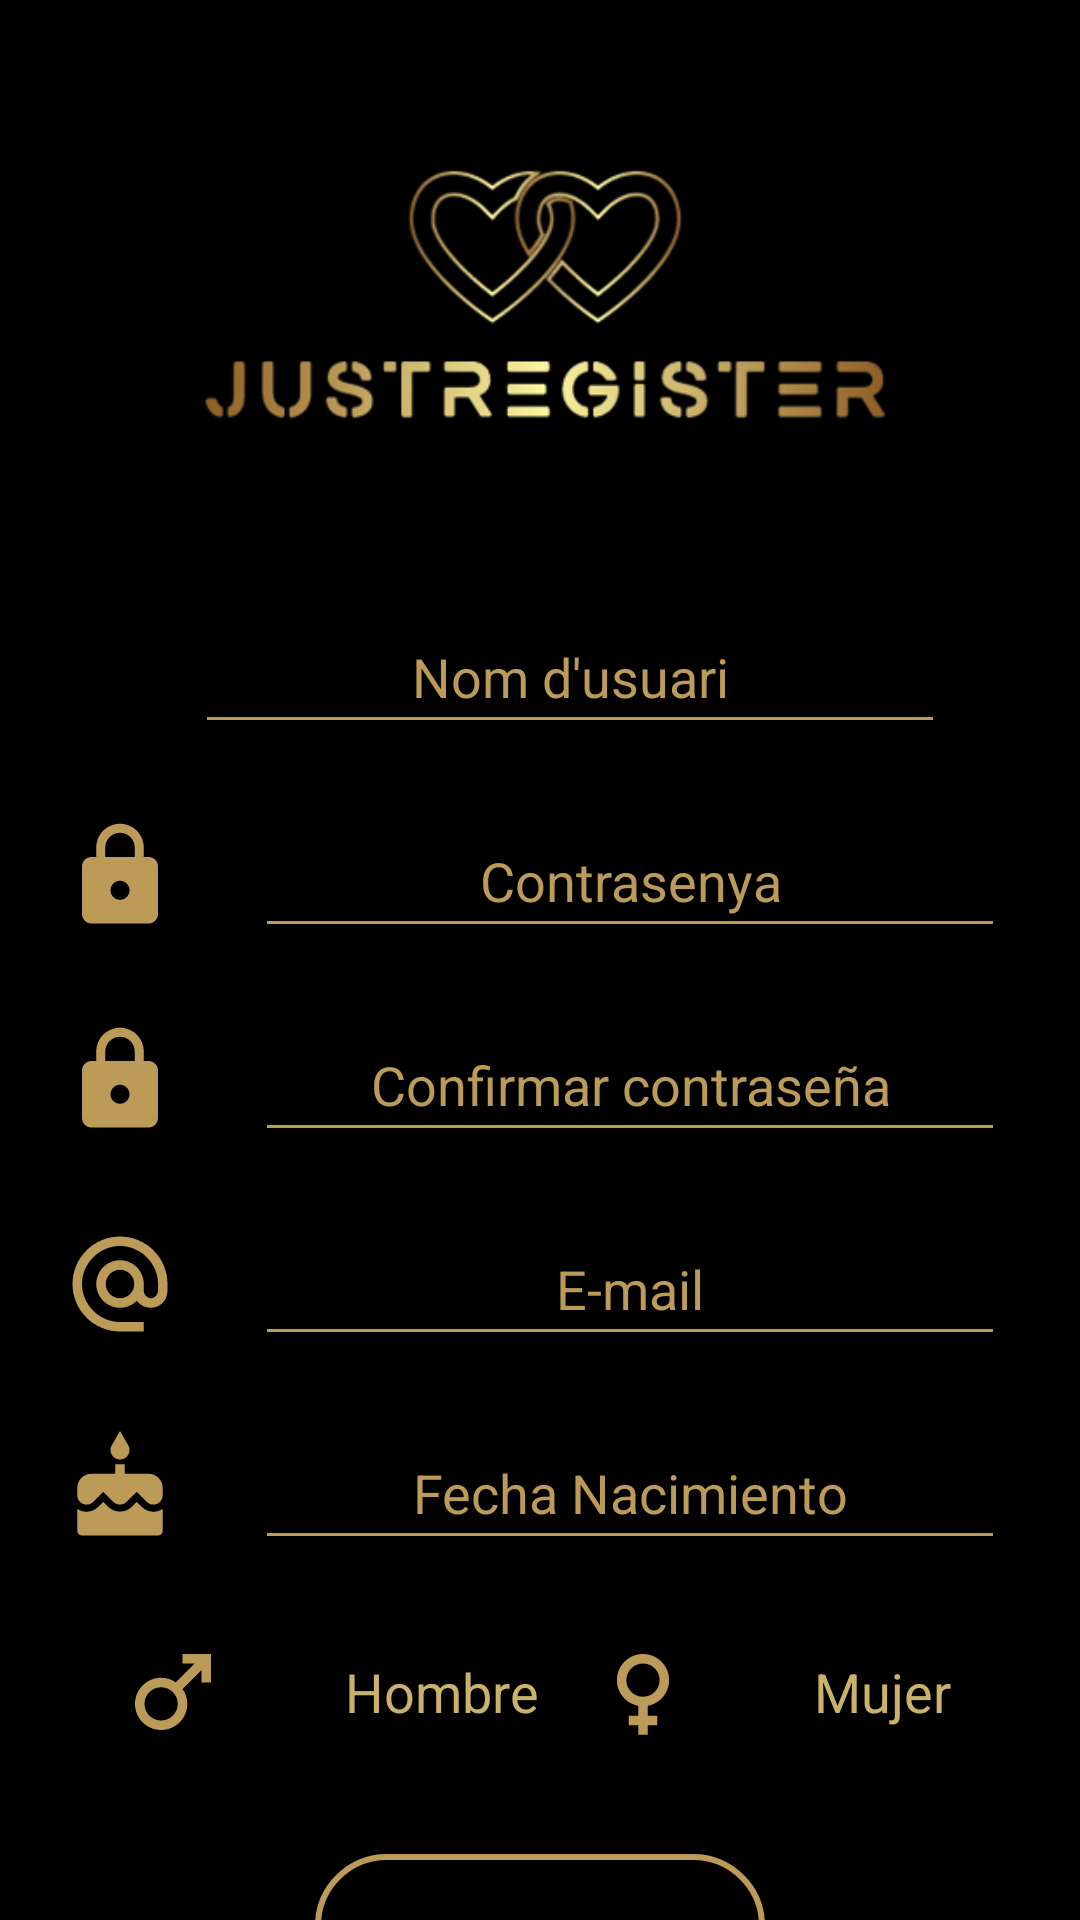

Icons on this 1080px×1920px Android screen, each with its box as Rect(x1, y1, x2, y2):
cake: Rect(77, 1431, 163, 1536)
female simbol: Rect(617, 1654, 669, 1735)
male simbol: Rect(135, 1654, 211, 1730)
password: Rect(82, 823, 158, 924), Rect(82, 1027, 158, 1128)
